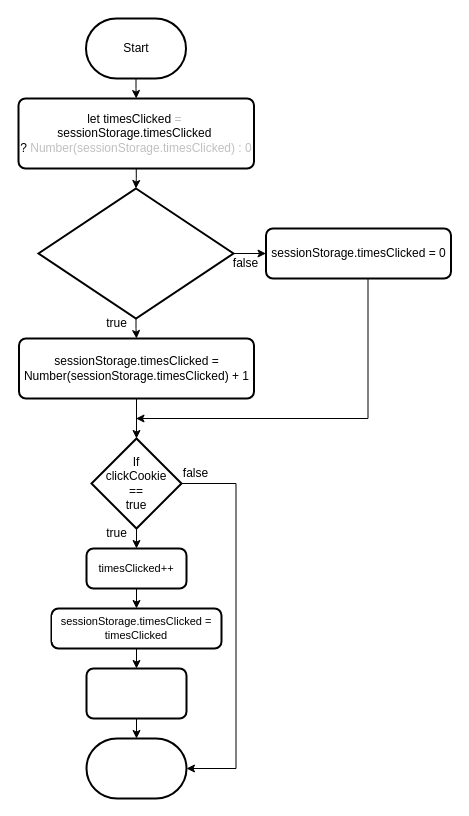
Image size: 469x816. Some labels were removed from this diagram. Here are the shapes that lost their labels. From the top down, the centre of each, then its label:
point (135, 253): If sessionStorage.timesClicked == true
point (136, 693): display "Cookie Count" + timesClicked
point (136, 768): Stop
